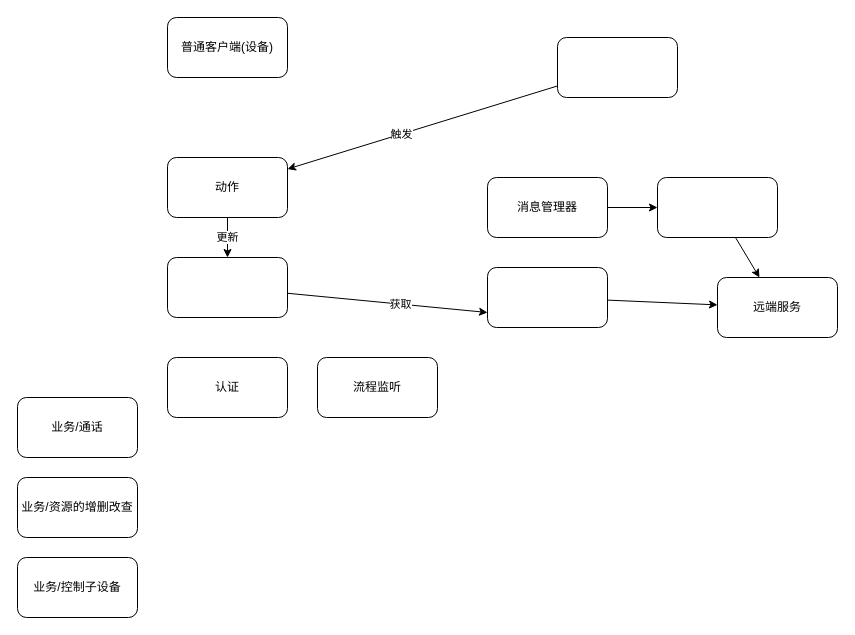
This 855x635 diagram has some shape labels left out. The box of each missing label's shape, as (x1, y1, x2, y2) in pixels:
属性: (166, 256, 288, 318)
管理客户端: (556, 36, 678, 98)
资源管理: (486, 266, 608, 328)
连接客户端: (656, 176, 778, 238)
